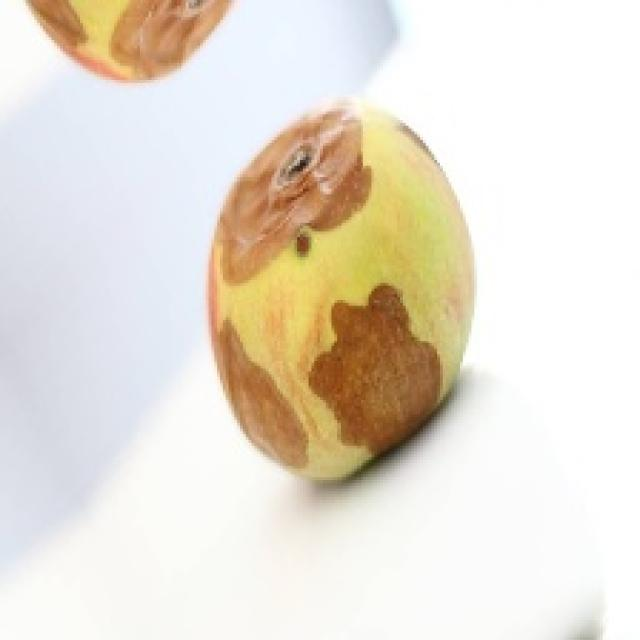rotten_apple: (215, 114, 471, 471)
